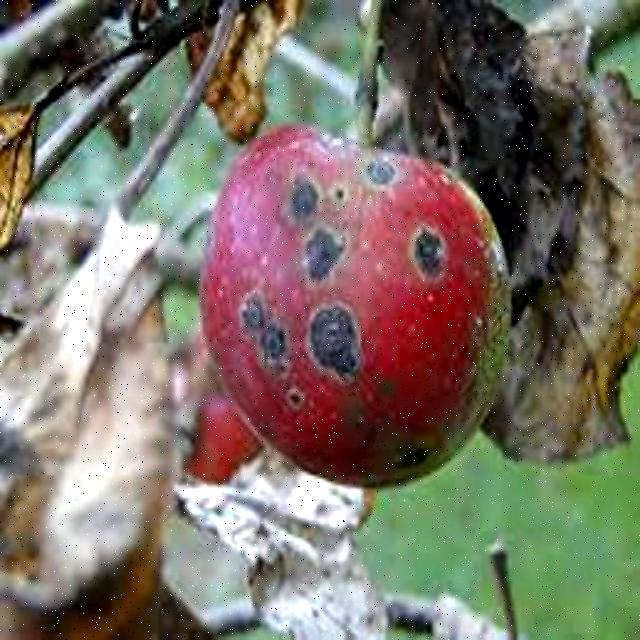SCAB: (199, 120, 517, 502)
